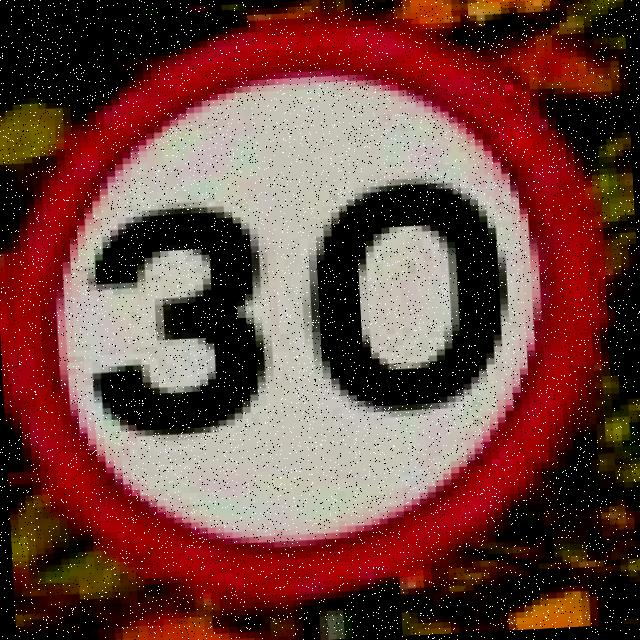Ograniczenie predkosci do 30: (0, 0, 605, 621)
